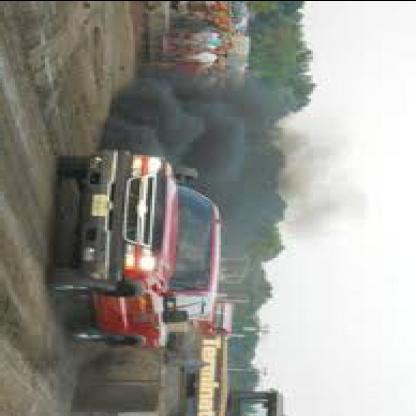Smoke: (122, 82, 262, 152)
